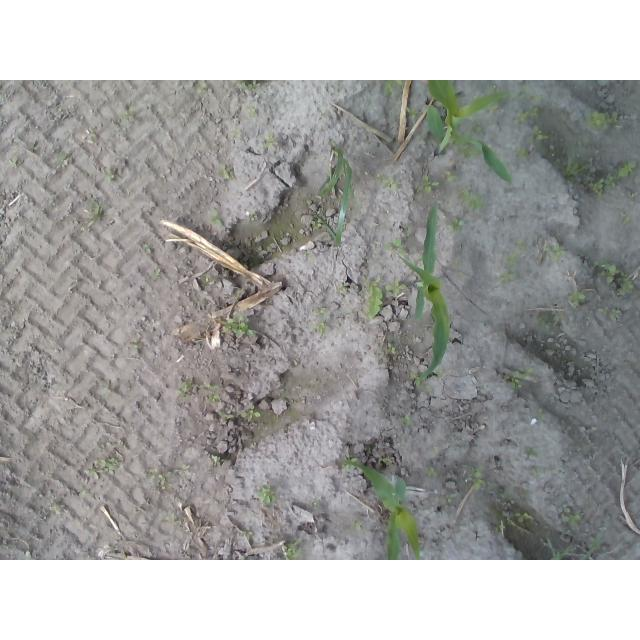Maize: (392, 202, 453, 382), (423, 80, 516, 186), (344, 457, 427, 560), (321, 144, 356, 248)
Weeds: (590, 160, 636, 195), (600, 263, 637, 299), (500, 238, 526, 284), (587, 108, 624, 134), (221, 314, 253, 342), (517, 90, 542, 124), (364, 283, 385, 320), (145, 468, 176, 493), (88, 457, 121, 480), (505, 365, 535, 388), (497, 512, 531, 532), (460, 191, 489, 213), (561, 161, 586, 184), (525, 451, 546, 478), (375, 172, 402, 193), (87, 202, 110, 223), (385, 239, 410, 257), (537, 311, 558, 332), (566, 288, 590, 306), (596, 303, 620, 321), (281, 541, 303, 560), (241, 405, 264, 423), (233, 80, 267, 92), (544, 147, 565, 166), (207, 210, 226, 231), (257, 485, 275, 507), (162, 512, 183, 530), (548, 243, 565, 265), (177, 381, 196, 400), (203, 384, 222, 403), (416, 176, 436, 194), (529, 126, 549, 143), (450, 214, 467, 234), (195, 80, 213, 98), (387, 281, 407, 297), (384, 81, 404, 96), (472, 468, 484, 492), (565, 513, 584, 528), (101, 168, 118, 184), (220, 166, 235, 181), (444, 174, 464, 185), (511, 146, 529, 158), (262, 136, 278, 149), (385, 342, 398, 357), (400, 413, 416, 425), (314, 321, 327, 335), (142, 241, 154, 256), (426, 466, 439, 479), (178, 462, 190, 474), (246, 107, 258, 118), (351, 519, 364, 529), (535, 409, 546, 420), (56, 159, 68, 169), (148, 271, 160, 281), (7, 158, 17, 168), (211, 454, 222, 462)
